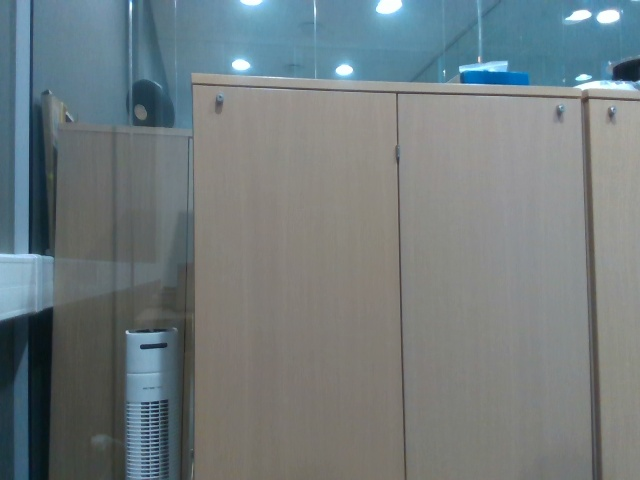alfa: (163, 303, 183, 335)
